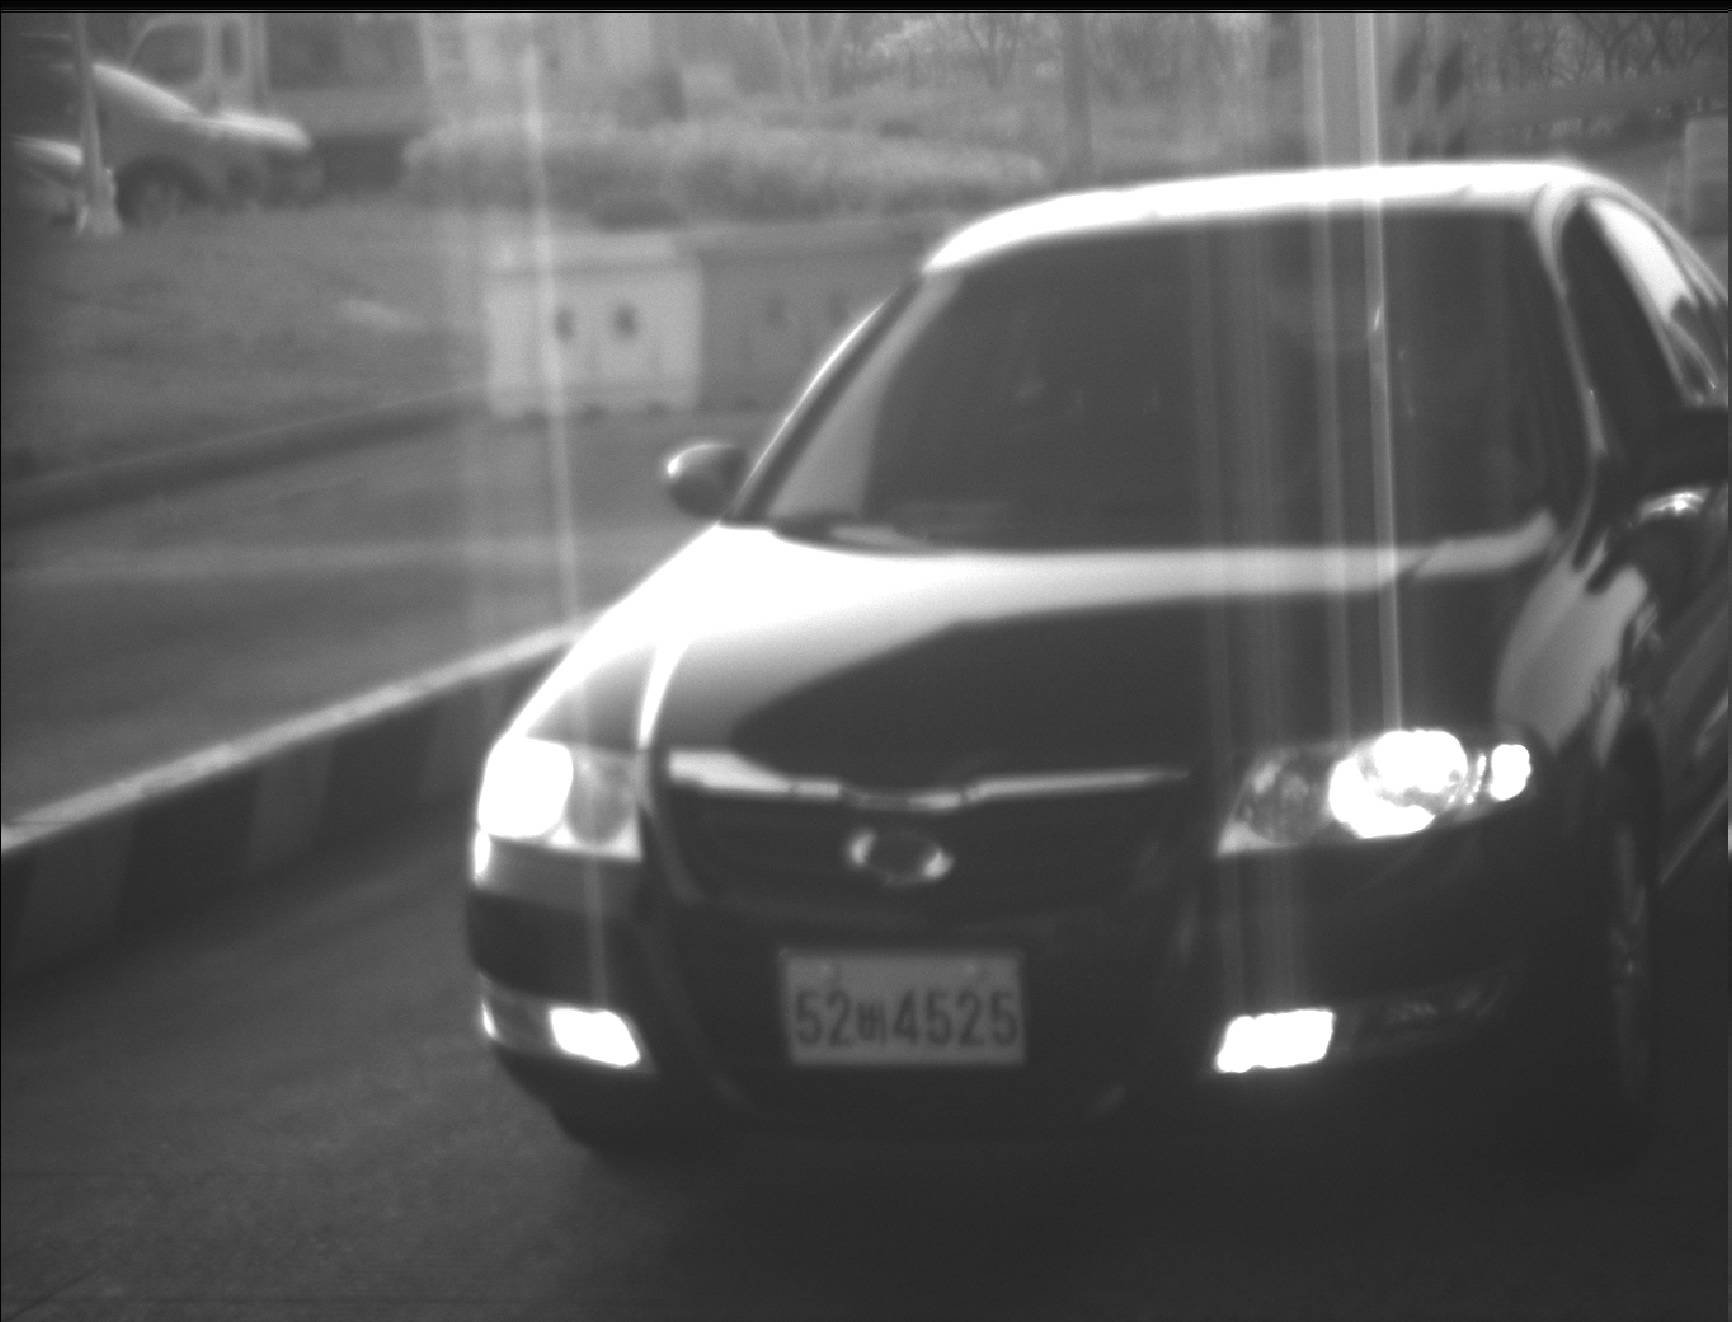car: (447, 155, 1729, 1196)
plate: (772, 946, 1032, 1069)
